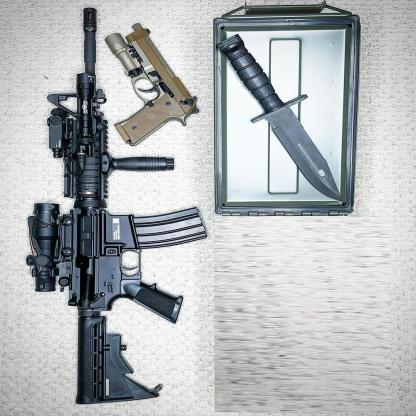Gun: (27, 4, 211, 407)
Knife: (215, 31, 346, 204)
Pistol: (104, 22, 203, 149)
